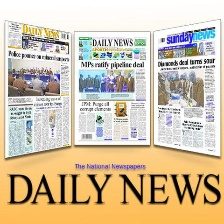news_paper: (151, 16, 224, 158), (1, 18, 73, 159), (71, 29, 152, 147)
